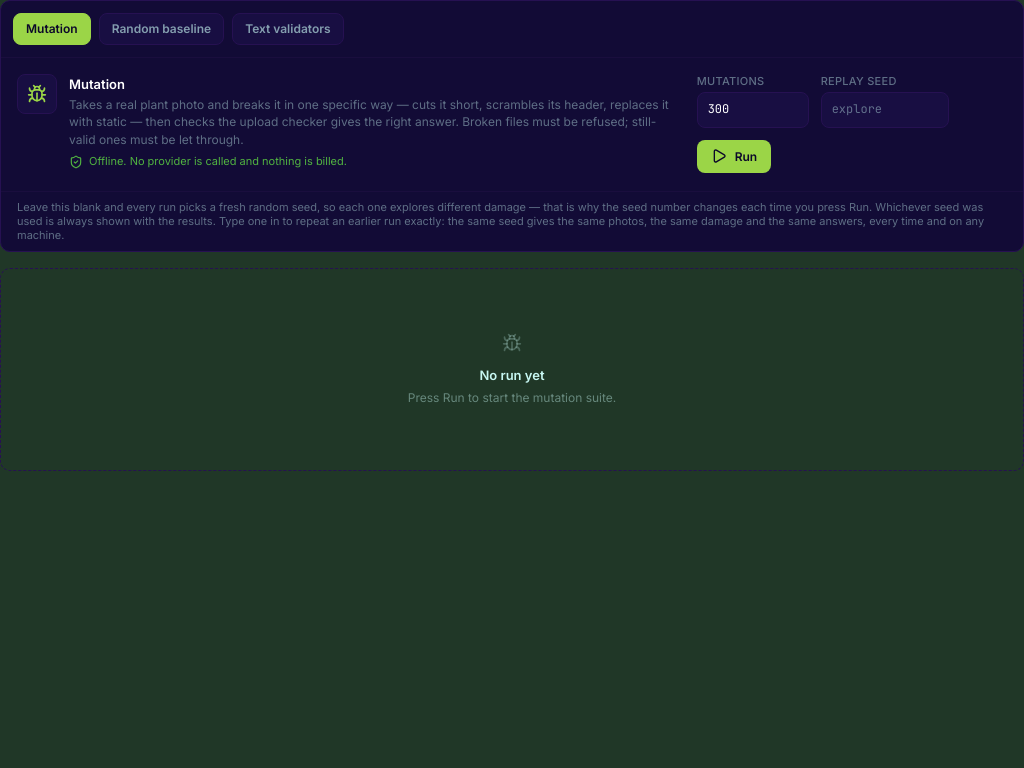
Scenario: FuzzTests › posts the run count and reports the outcome tallies
What coordinates should you click on to do the following:
click the button "Run"
I would click on:
 (734, 156)
Its box is [697, 140, 771, 173].
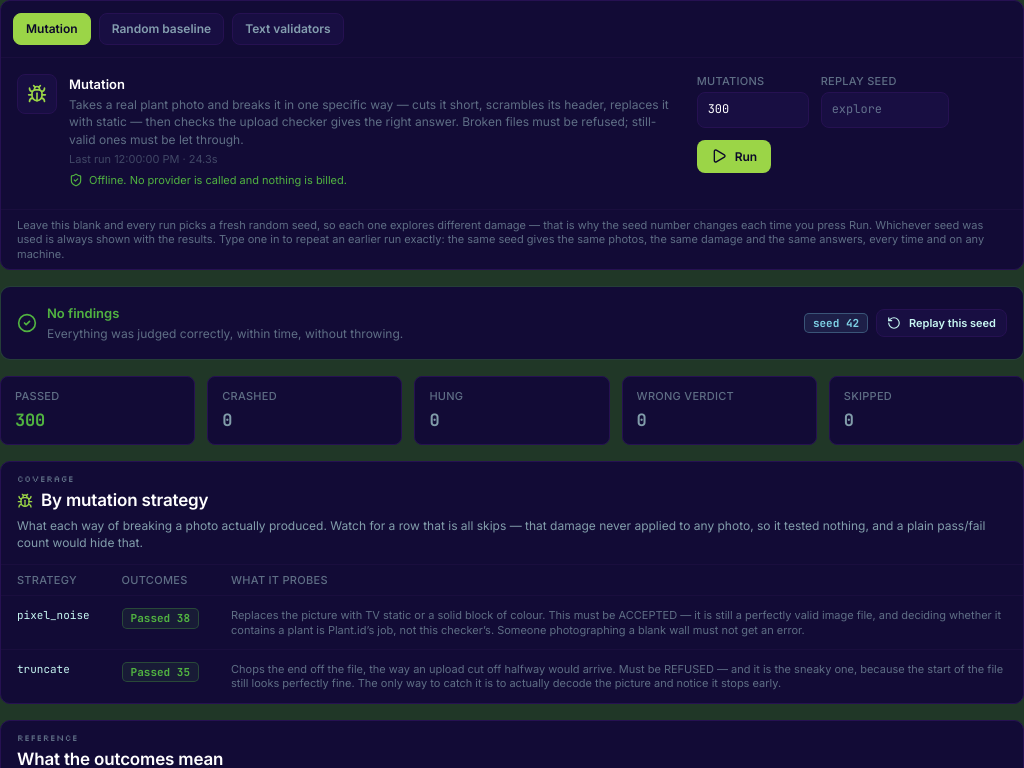
Check: the text "No findings" is shown, box [47, 305, 119, 321]
